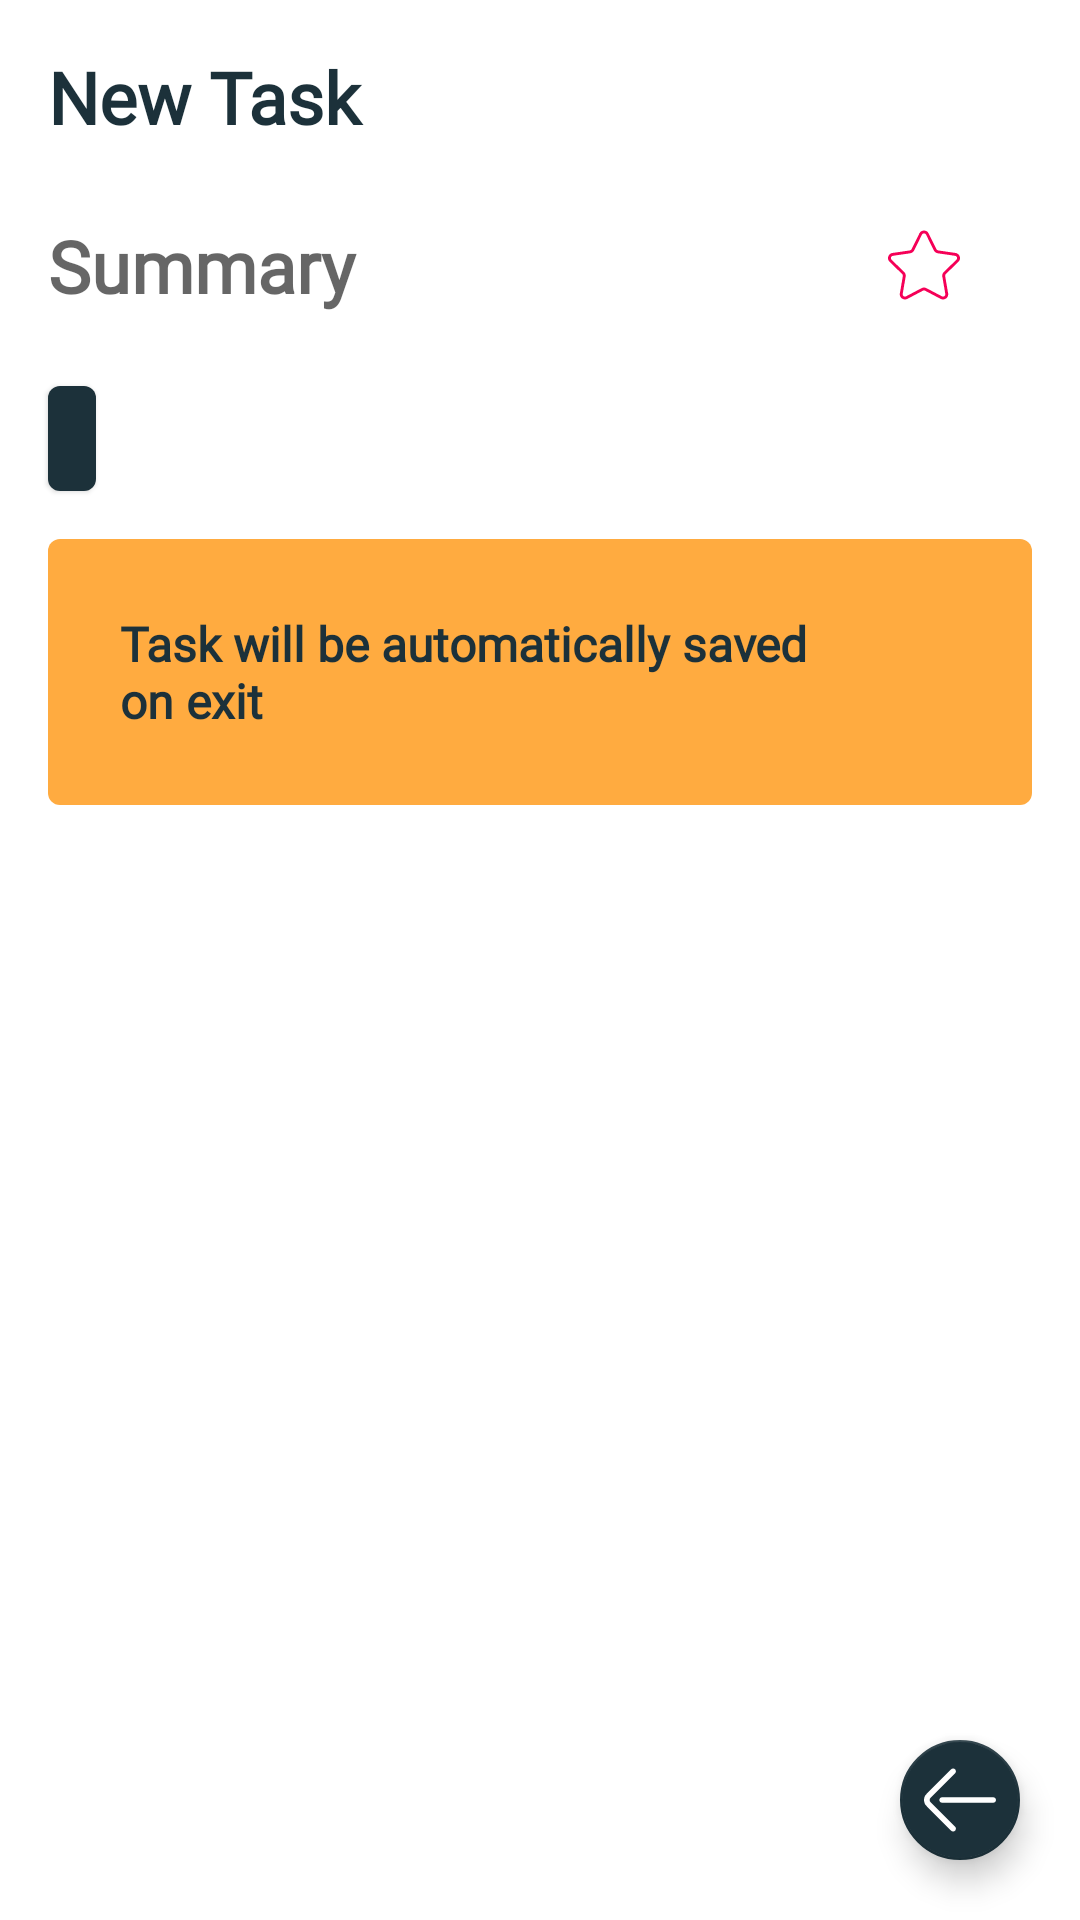

Screen size 1080×1920. Icon name, then its center in pixels as (x,y):
arrow back: (961,1806)
favourite check states: (924,265)
